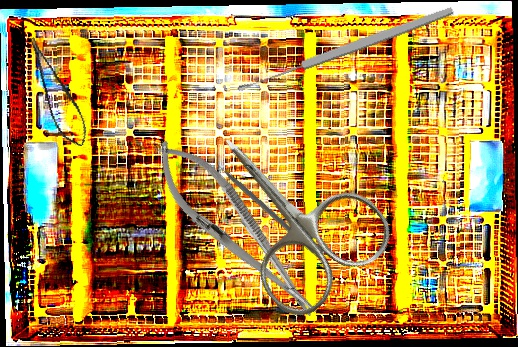Chopper: (207, 150, 323, 255)
Iris Scissors: (175, 94, 402, 327)
Micro Scissor: (25, 29, 93, 153)
Needle Holder: (139, 127, 333, 333)
Surgical Spoon: (233, 3, 457, 96)
